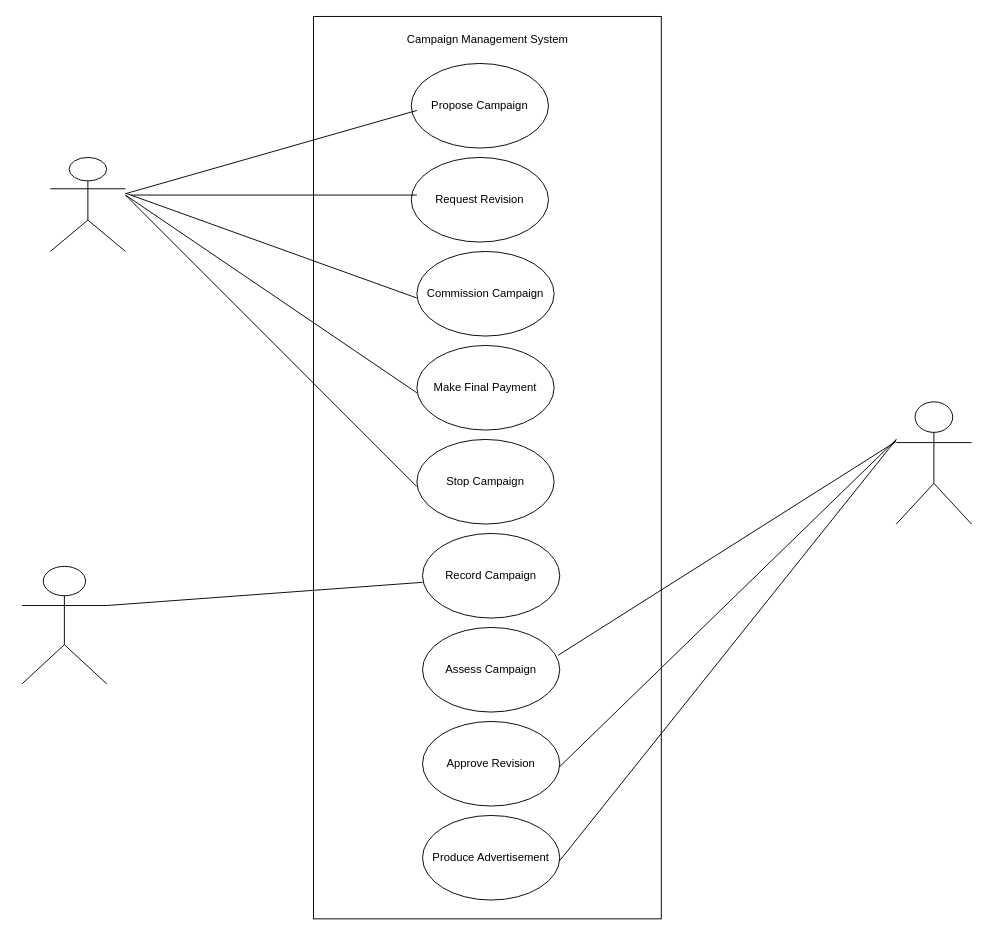
This 988x935 diagram has some shape labels left out. The shapes that lost their labels are listed below. From the top down, each one's centre as x and y in pixels, then its label:
(x=87, y=204): Customer
(x=933, y=462): Technical Staff
(x=64, y=624): Administrative Staff
